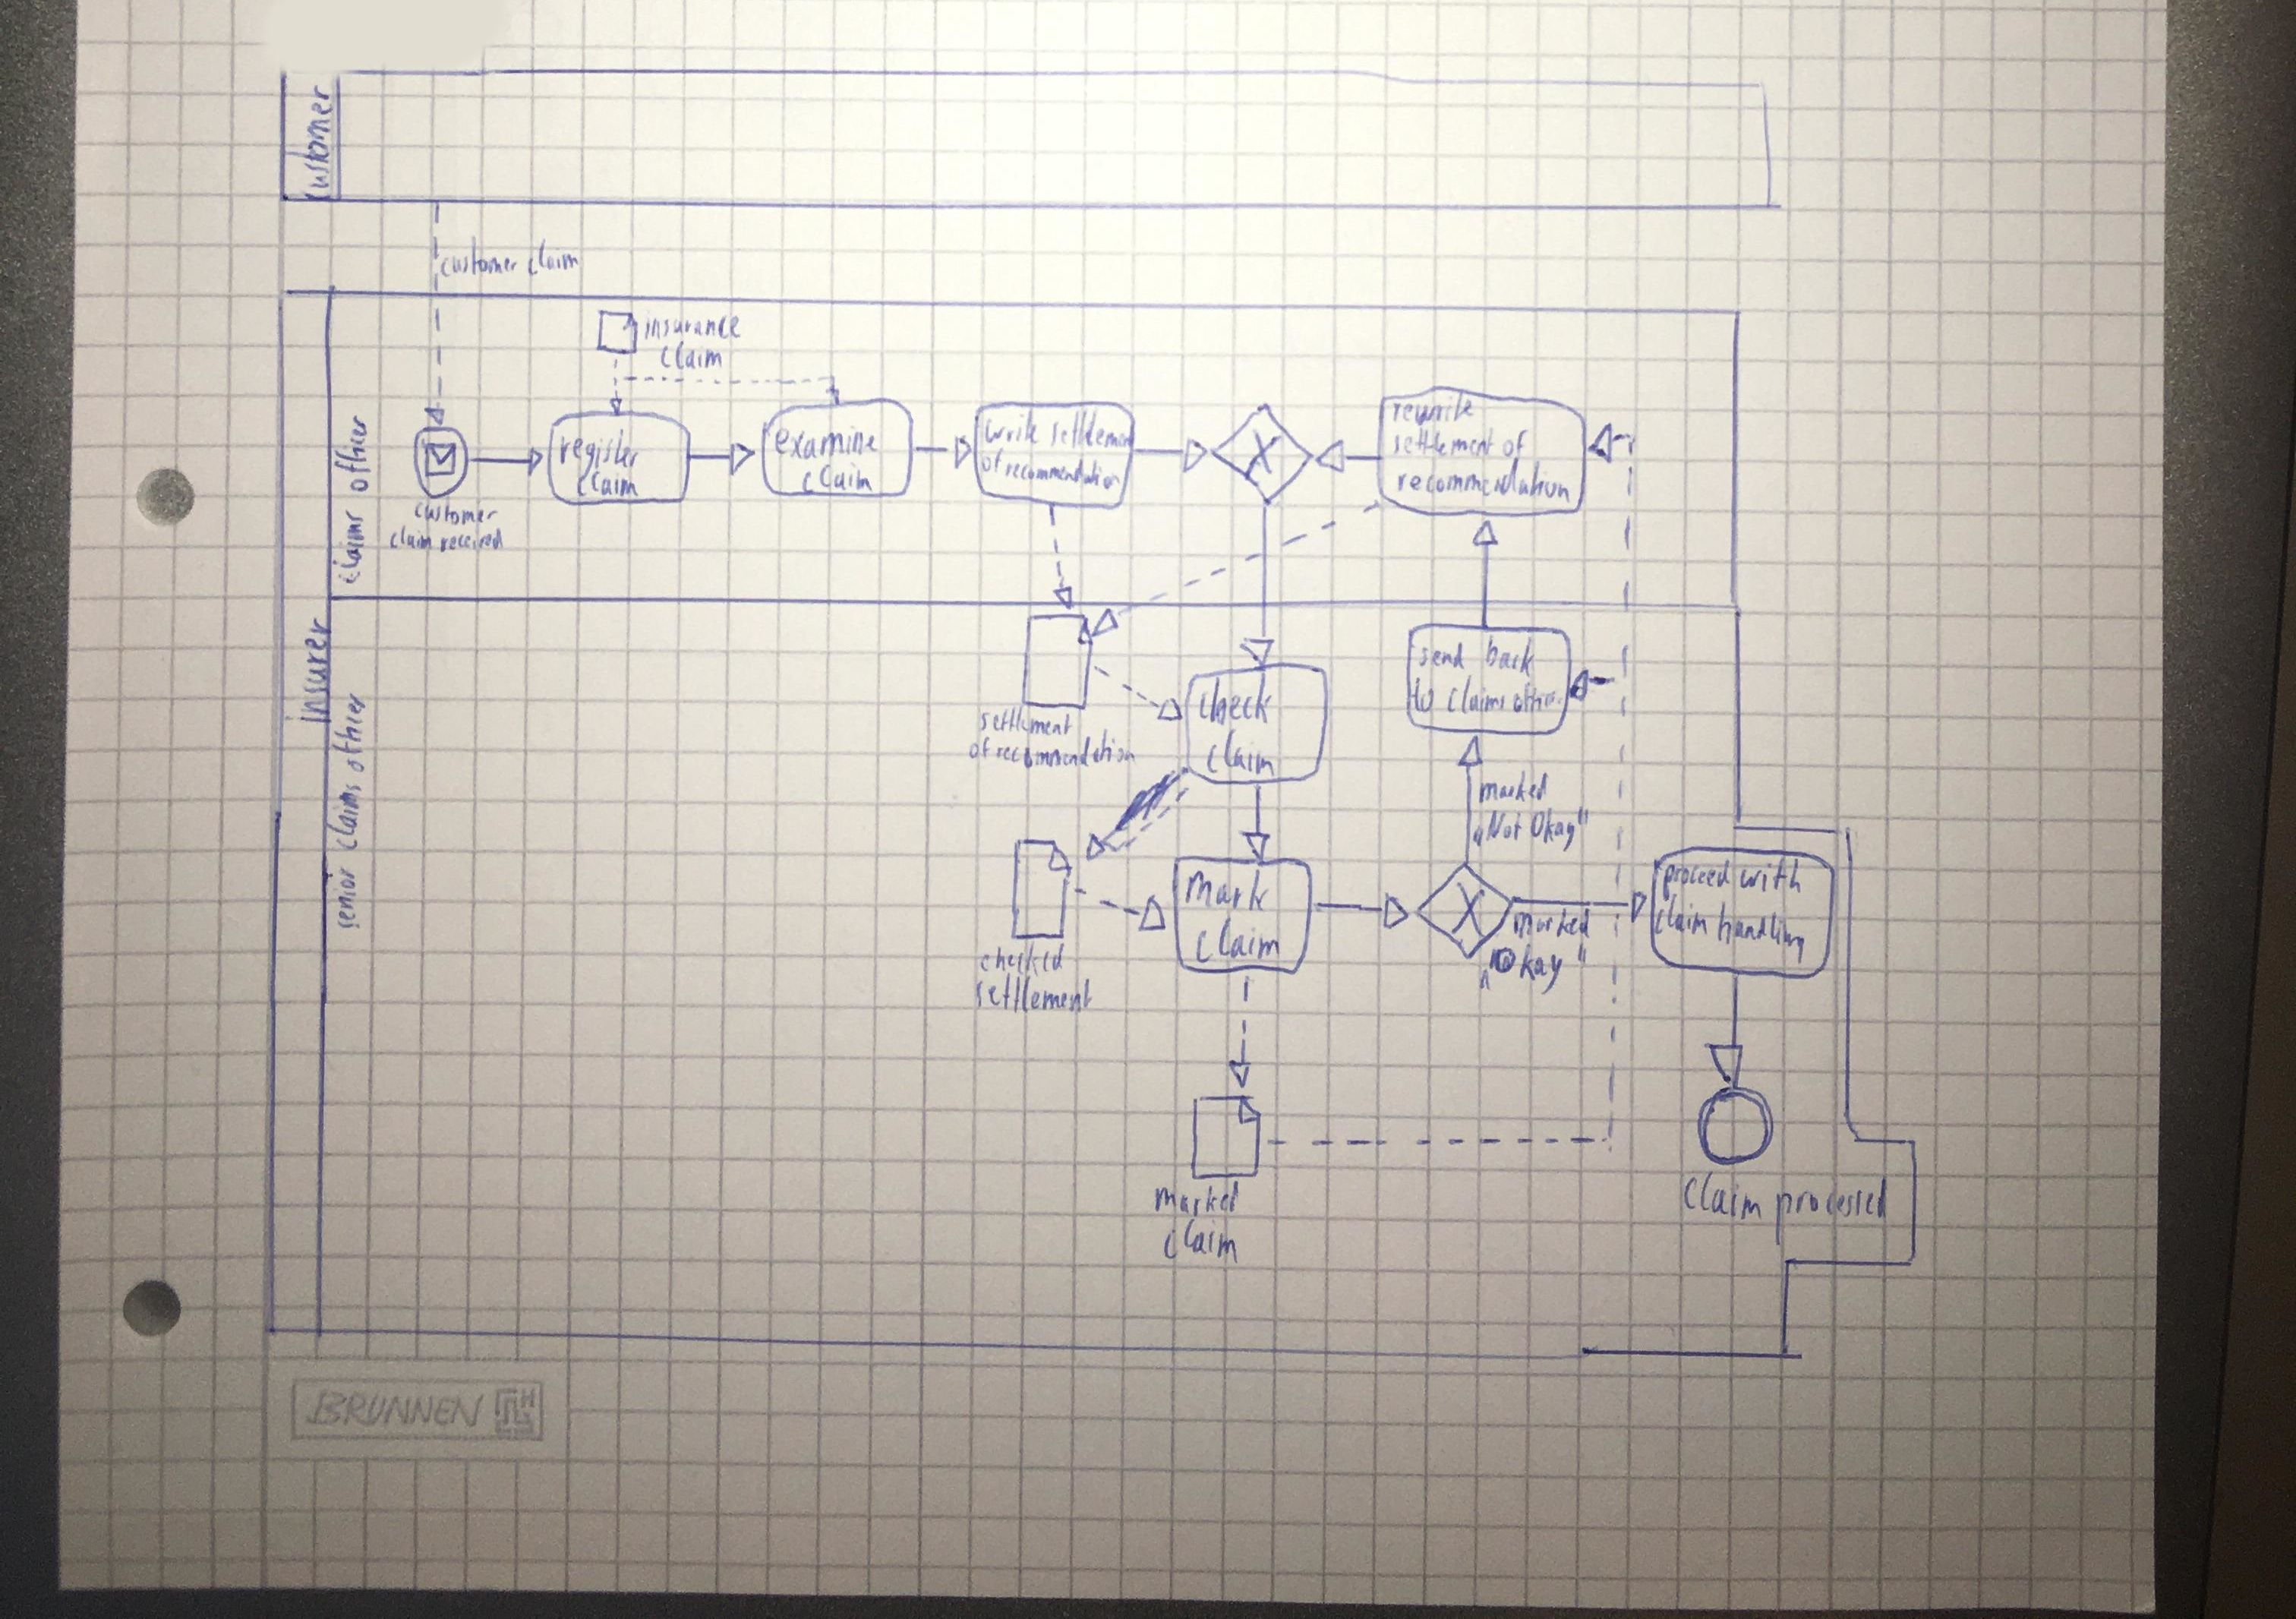Not: (1471, 804, 1527, 852)
Okay: (1475, 941, 1592, 999), (1525, 804, 1592, 859)
back: (1482, 629, 1543, 682)
check: (1191, 668, 1278, 732)
checked: (974, 937, 1068, 983)
claim: (1678, 1165, 1767, 1227), (1187, 911, 1285, 965), (1200, 722, 1282, 781), (1159, 1212, 1245, 1267), (1650, 890, 1713, 943), (797, 457, 877, 498), (1443, 671, 1510, 718), (522, 233, 583, 282), (655, 336, 729, 377), (571, 466, 644, 503), (385, 522, 436, 555)
claims: (326, 505, 371, 590), (320, 776, 366, 855)
customer: (282, 81, 338, 209), (436, 230, 522, 284), (410, 492, 503, 531)
examine: (769, 419, 883, 466)
handling: (1713, 897, 1811, 972)
insurance: (639, 307, 746, 345)
insurer: (280, 610, 340, 731)
mark: (1179, 864, 1273, 918)
marked: (1149, 1174, 1245, 1223), (1506, 902, 1595, 944), (1473, 766, 1553, 808)
of: (1497, 424, 1534, 464), (975, 443, 1007, 478), (965, 732, 995, 764)
officer: (327, 412, 377, 498), (326, 689, 371, 778), (1508, 680, 1569, 718)
proceed: (1657, 855, 1737, 906)
processed: (1769, 1172, 1895, 1249)
received: (434, 524, 508, 557)
recommendation: (1392, 452, 1576, 508), (991, 724, 1137, 774), (1000, 452, 1126, 496)
register: (555, 422, 643, 485)
rewrite: (1387, 385, 1480, 431)
send: (1415, 638, 1469, 675)
senior: (320, 862, 364, 936)
settlement: (970, 969, 1098, 1022), (1046, 403, 1138, 454), (1389, 422, 1499, 463), (974, 701, 1077, 741)
to: (1406, 673, 1440, 718)
with: (1734, 853, 1807, 901)
write: (979, 405, 1046, 450)
